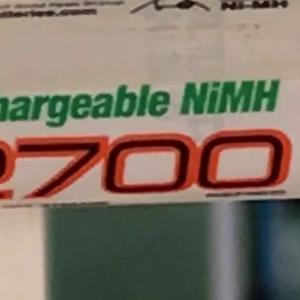keyword: (170, 70, 289, 124)
